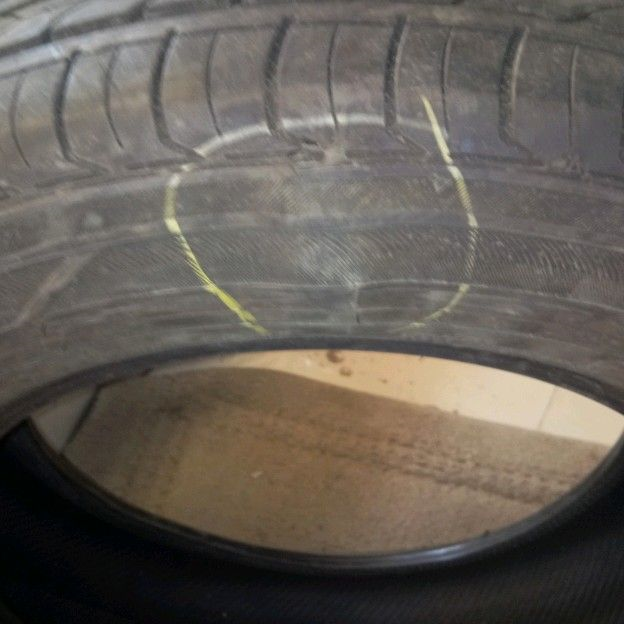CBU: (240, 150, 409, 298)
